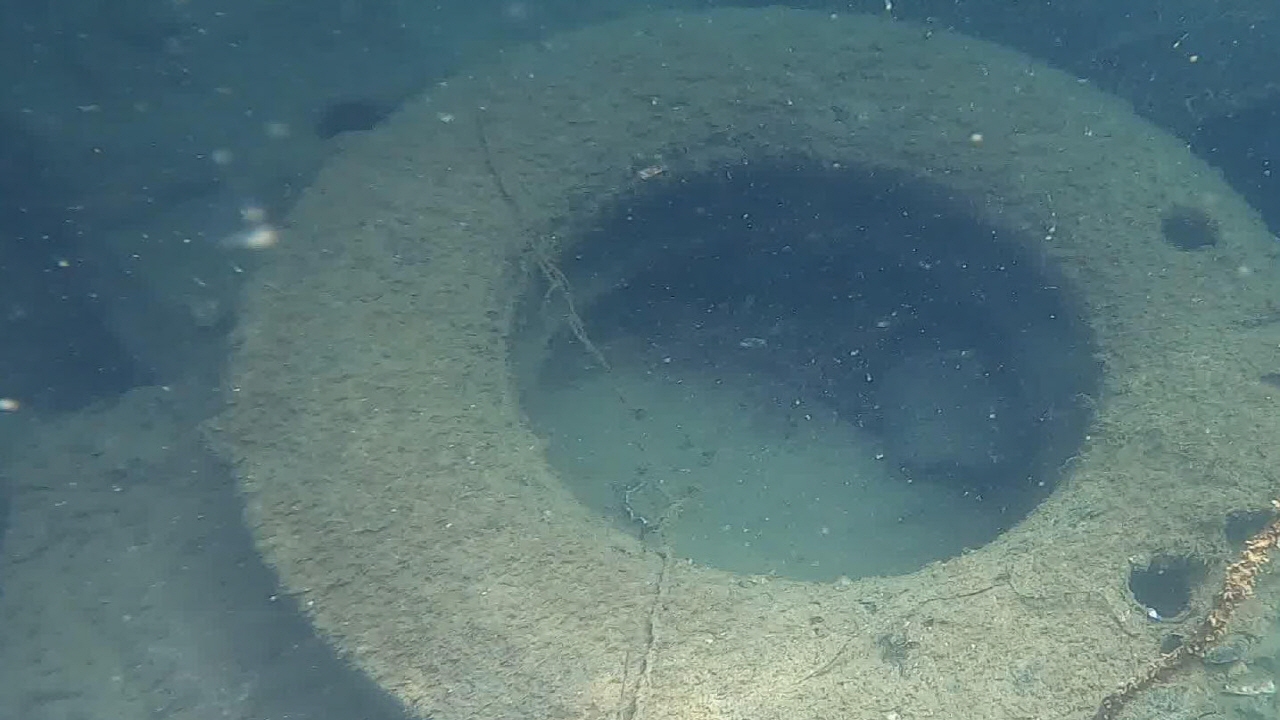tire: (225, 6, 1280, 720)
